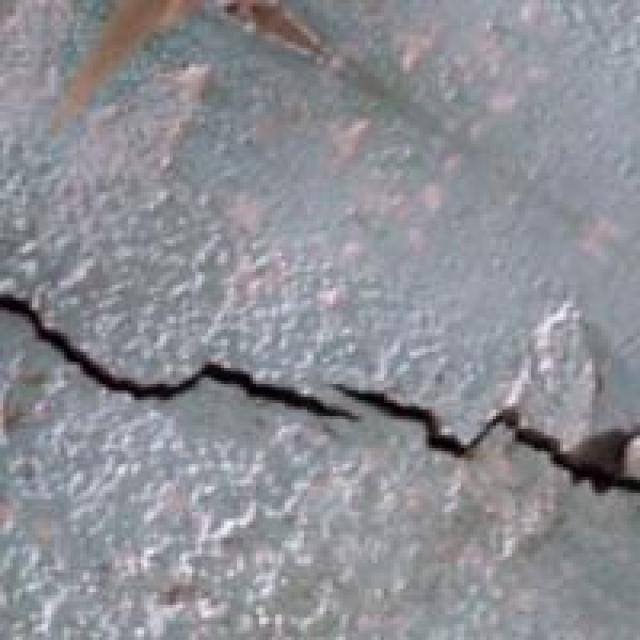crack: (0, 249, 637, 522)
